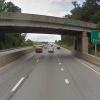Bridge: (4, 6, 97, 51)
